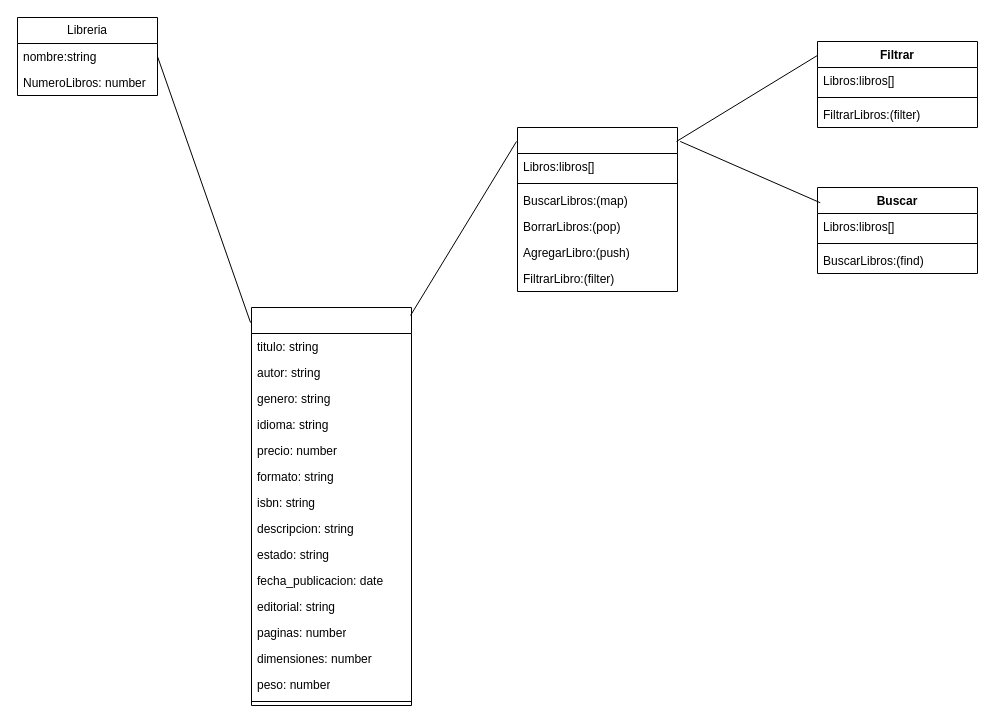
Some shapes in this 995 by 723 pixel diagram are drawn without their labels. Each missing label, with the box of its shape:
Libros: (250, 306, 412, 706)
Listado: (516, 126, 678, 292)
